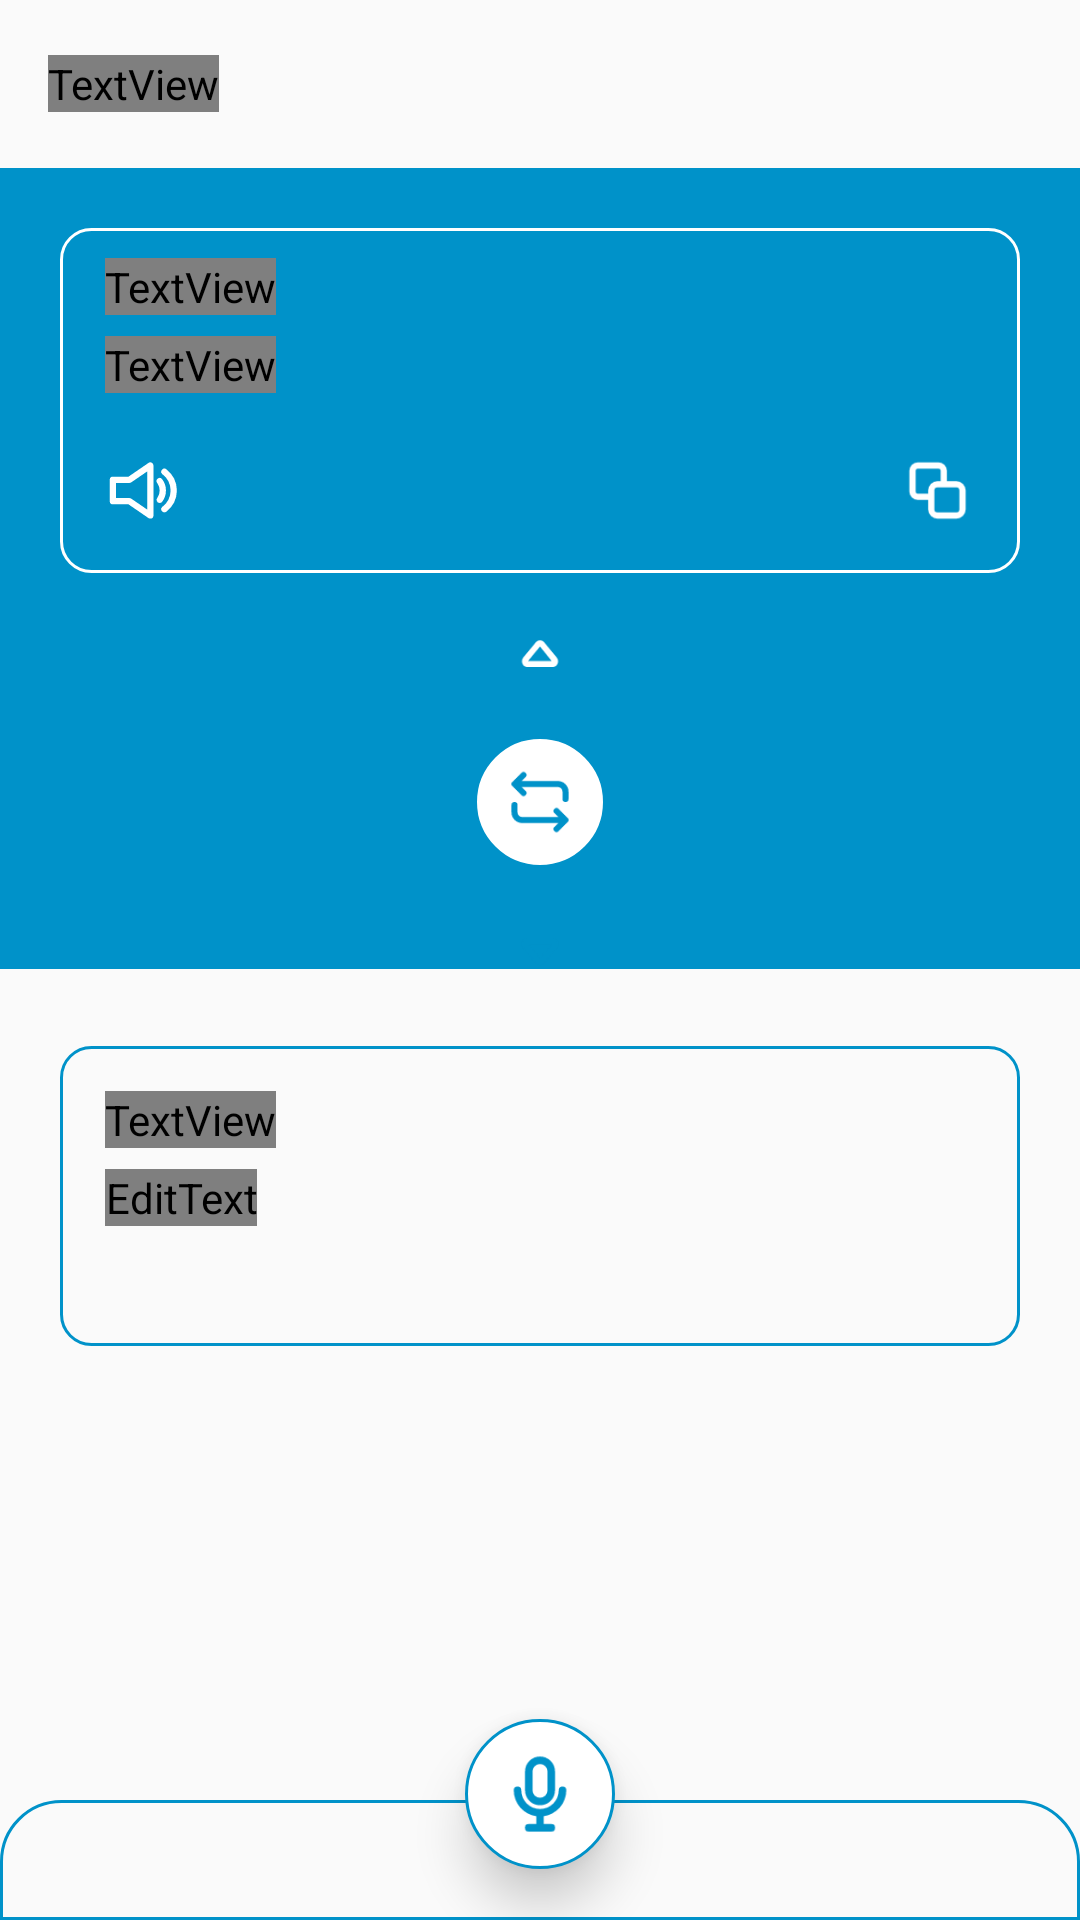

Named icons in this screenshot (1080px×1920px) and their bounding boxes, [left=x1, top=y1, right=x2, bottom=y2]:
arrow up: [left=521, top=640, right=559, bottom=667]
mic: [left=465, top=1719, right=615, bottom=1869]
repeat: [left=477, top=739, right=603, bottom=865]
volume up: [left=109, top=462, right=177, bottom=519]
